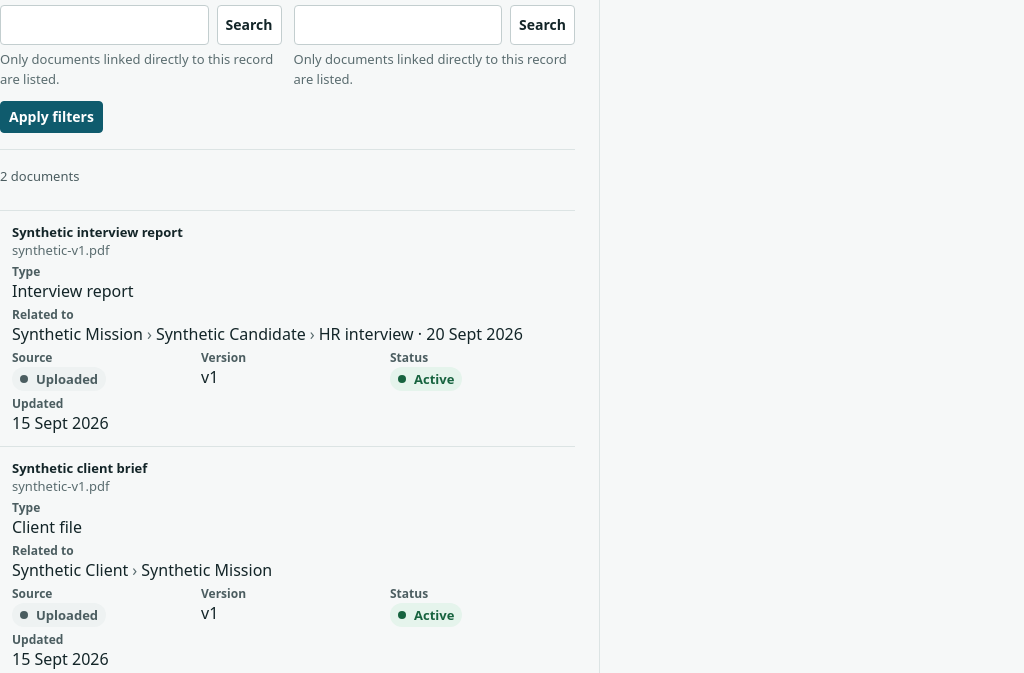
Test: DocumentsPanel presentation › offers no raw-ID or owner inputs anywhere in the Document Center
(page scrolled)
What coordinates should you click on to do the following:
click the button "Synthetic client brief"
I would click on:
 (80, 468)
Its box is [12,459,147,477].
(page scrolled)
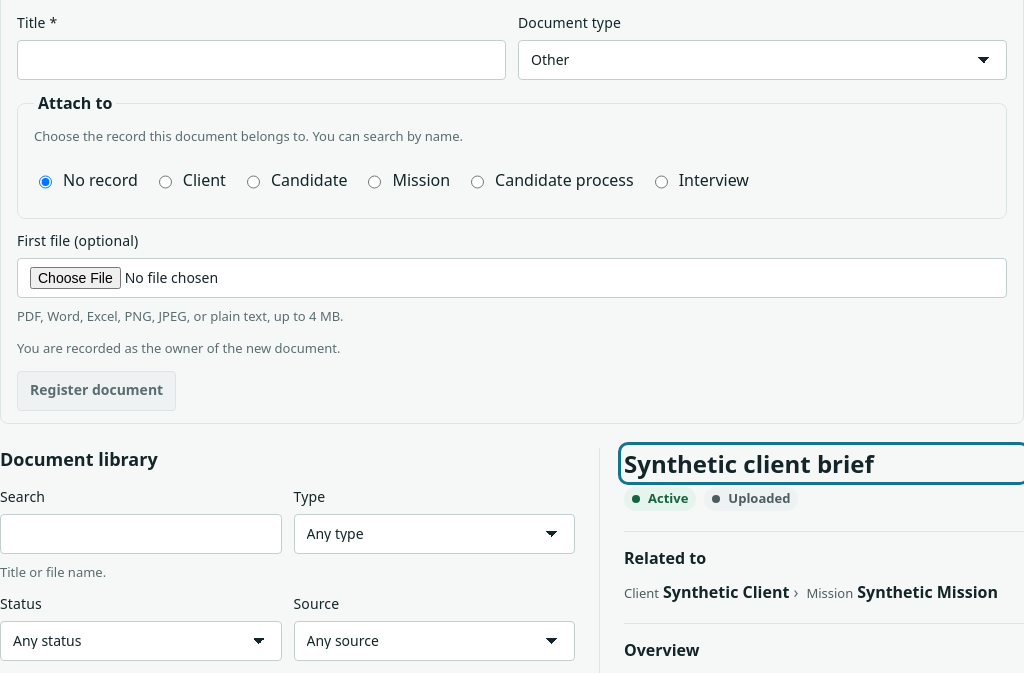
Expected: the heading "Synthetic client brief" is shown, [624,446,874,480]
Expected: the text "You are recorded as the owner of the new document." is shown, [17,339,340,357]
